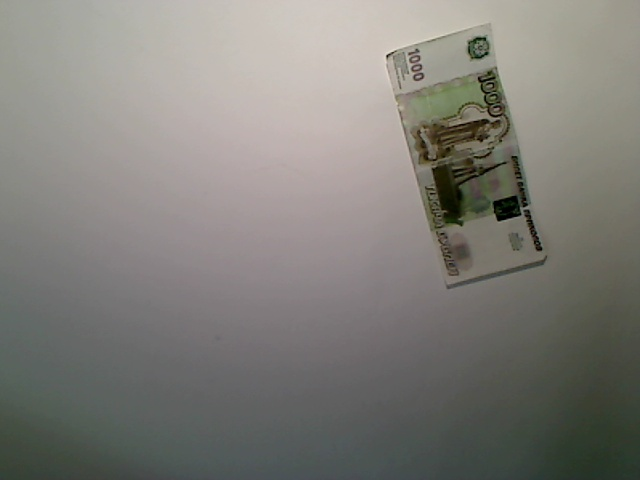banknotes: (384, 18, 551, 293)
